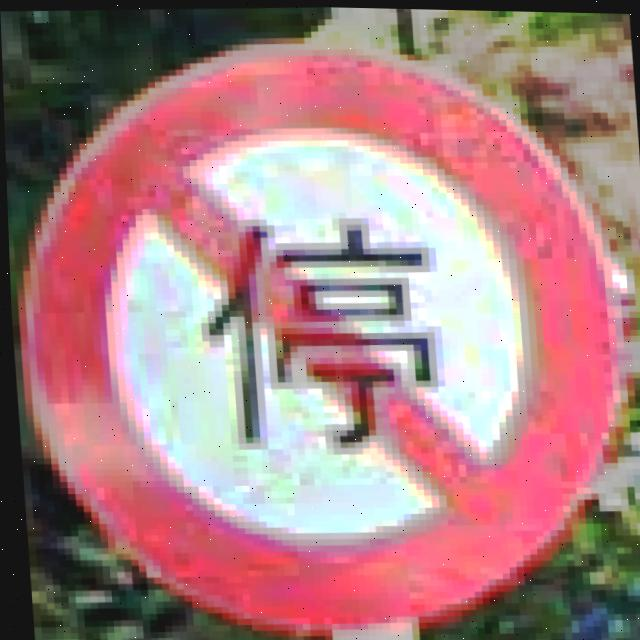nopark: (1, 20, 640, 640)
